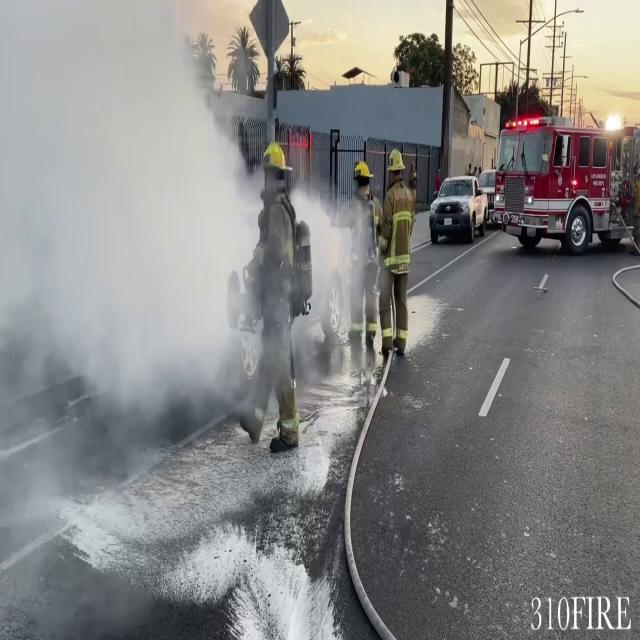Smoke: (0, 0, 272, 458)
